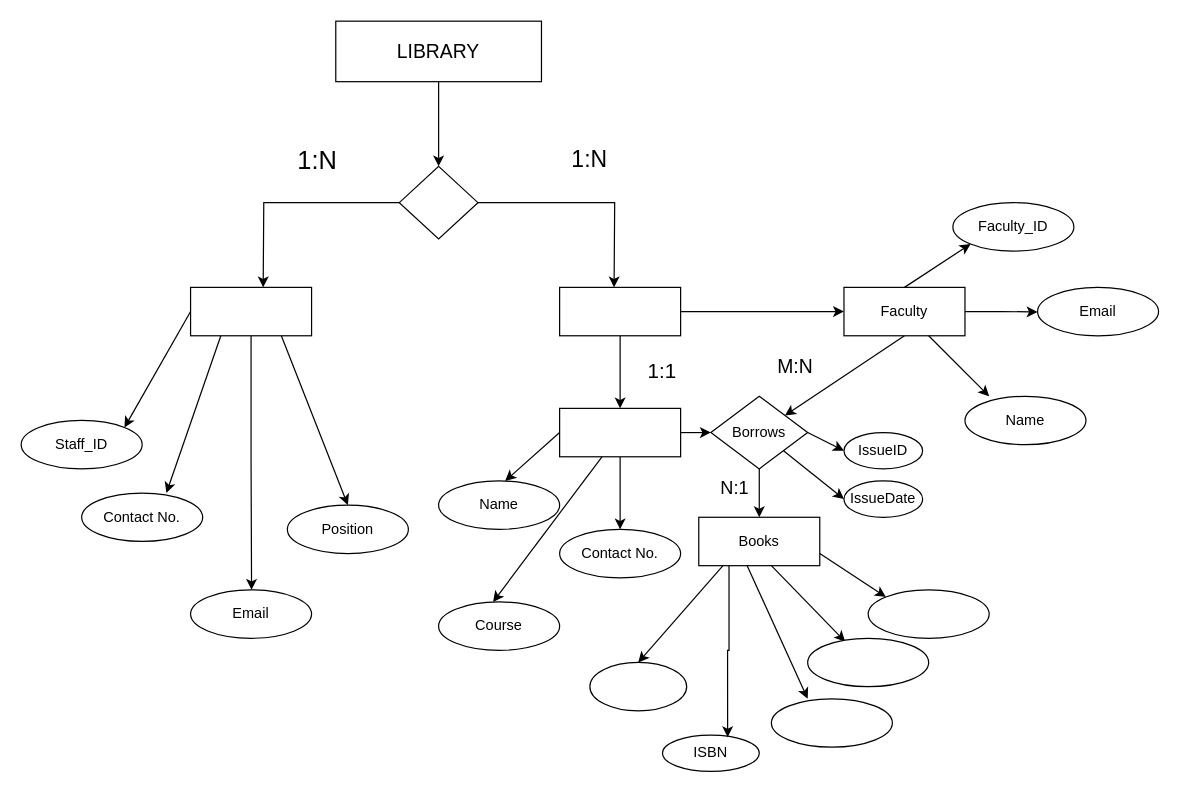
Image size: 1180x793. Some labels were removed from this diagram. The centre of each missing label's shape, as x and y in pixels:
"Book_ID" belongs at [928,613].
"has" belongs at [438,202].
"Member" belongs at [619,311].
"Price" belongs at [638,686].
"Publisher" belongs at [867,662].
"Staff" belongs at [250,311].
"Student" belongs at [619,432].
"Title" belongs at [831,722].
